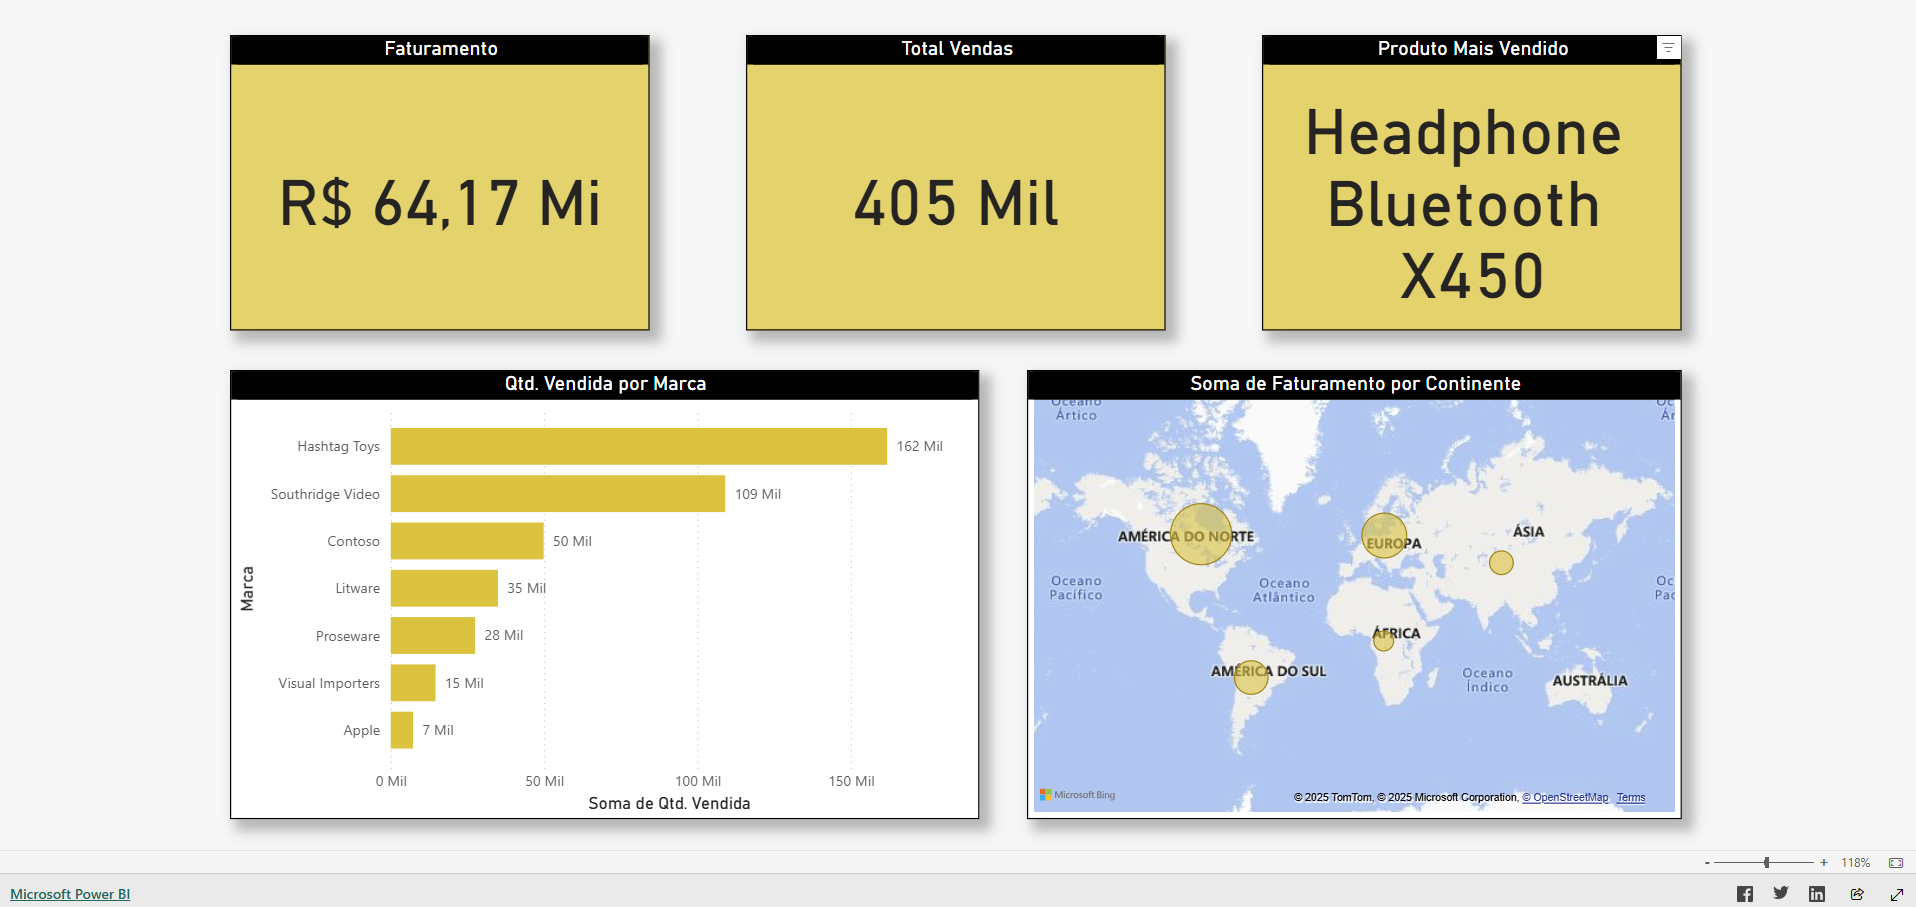

The page's visual inventory and layout, read from the dashboard file:
{"tool":"powerbi","page":{"name":"Página 1","canvas":[1280,720],"ordinal":0},"visuals":[{"type":"card","title":"Faturamento","fields":{"Values":["Sum(Vendas.Faturamento)"]},"box":[24.7,30.2,355.4,249.7],"z":0},{"type":"card","title":"Total Vendas","fields":{"Values":["Sum(Vendas.Qtd. Vendida)"]},"box":[461.1,30.2,355.4,249.7],"z":1000},{"type":"card","title":"Produto Mais Vendido","fields":{"Values":["Min(Vendas.Produto)"]},"box":[897.4,30.2,355.4,249.7],"z":2000},{"type":"barChart","title":"Qtd. Vendida por Marca","fields":{"Category":["Vendas.Marca"],"Y":["Sum(Vendas.Qtd. Vendida)"]},"box":[24.7,314.2,634,380.1],"z":3000},{"type":"map","fields":{"Category":["Vendas.Continente"],"Size":["Sum(Vendas.Faturamento)"]},"box":[698.5,314.2,554.4,380.1],"z":4000}]}

Visuals, with their boxes in screenshot pixels (x1, y1, x2, y2):
"Faturamento" card: 219/26/646/326
"Total Vendas" card: 743/26/1169/326
"Produto Mais Vendido" card: 1266/26/1693/326
"Qtd. Vendida por Marca" barChart: 219/367/980/823
map - Vendas.Continente x Sum(Vendas.Faturamento): 1028/367/1693/823
